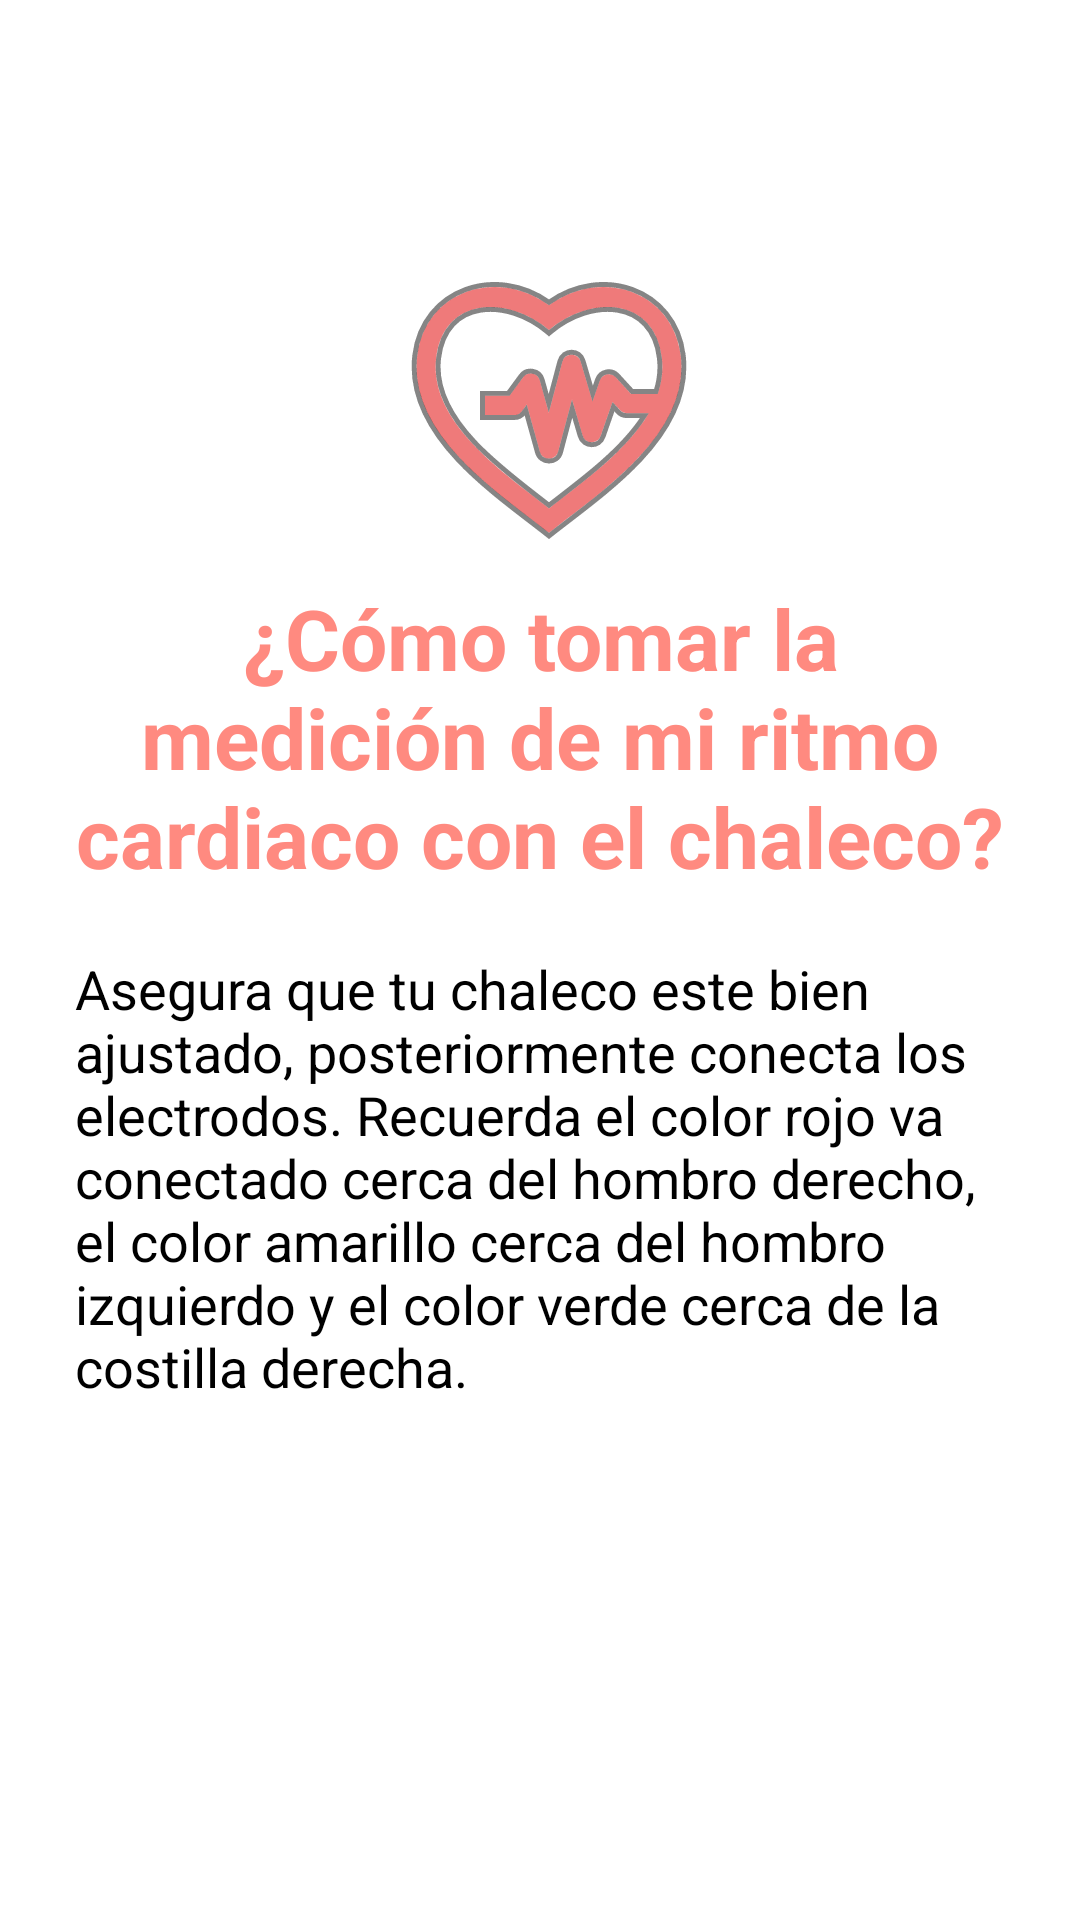

Screen size 1080x1920. Icon name, then its box in pixels as rect(x1, y1, x2, y2):
corazon: rect(411, 282, 687, 539)
